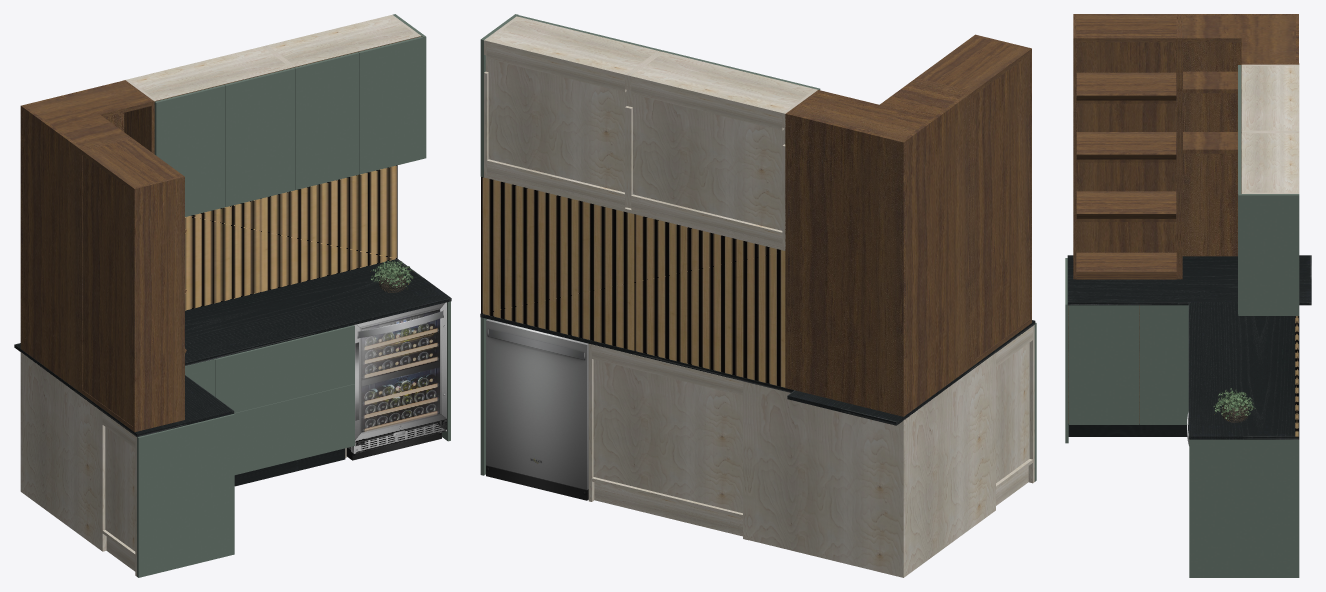
File: coffee-bar.glb
The picture shows the model from 3 angles, left to right: view 1: azimuth 30°, elevation 25°; view 2: azimuth 150°, elevation 25°; view 3: azimuth 270°, elevation 25°; orthographic projection. The views are drawn at different scales.
Parts seen in each view (by area): view 1: coffee-bar.001, mv_coffee-bar_002, mv_coffee-bar_006, mv_coffee-bar_001, mv_coffee-bar_000, mv_coffee-bar_005, mv_coffee-bar_003, mv_coffee-bar_008; view 2: coffee-bar.001; view 3: coffee-bar.001, mv_coffee-bar_004, mv_coffee-bar_008.
Part boxes in pixels (bbox=[...]): coffee-bar.001: bbox=[14, 14, 451, 577]; mv_coffee-bar_002: bbox=[224, 67, 295, 206]; mv_coffee-bar_006: bbox=[215, 325, 354, 412]; mv_coffee-bar_001: bbox=[294, 52, 359, 189]; mv_coffee-bar_000: bbox=[358, 36, 423, 174]; mv_coffee-bar_005: bbox=[234, 384, 354, 474]; mv_coffee-bar_003: bbox=[154, 85, 225, 216]; mv_coffee-bar_008: bbox=[185, 359, 215, 396]; coffee-bar.001: bbox=[480, 14, 1036, 577]; coffee-bar.001: bbox=[1065, 14, 1311, 577]; mv_coffee-bar_004: bbox=[1069, 305, 1139, 424]; mv_coffee-bar_008: bbox=[1140, 305, 1188, 424].
Bounding box in the file's own units: 2.46 × 2.42 × 1.41.
14 materials, 13 textured.
